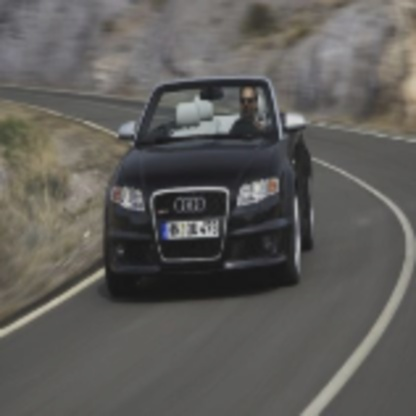Vehicle: (102, 76, 320, 301)
